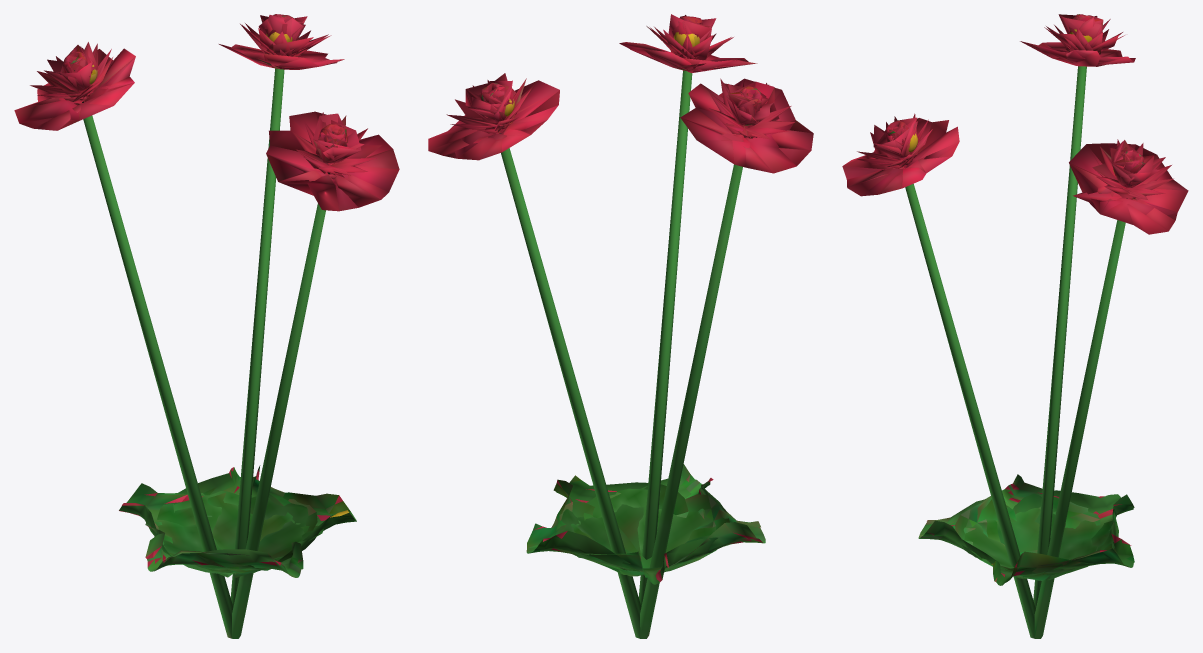
The model's file is crop_dahlia.glb.
The picture shows the model from 3 angles, left to right: view 1: azimuth 30°, elevation 25°; view 2: azimuth 150°, elevation 25°; view 3: azimuth 270°, elevation 25°; orthographic projection. The views are drawn at different scales.
Parts seen in each view (by area): view 1: crop_dahlia, fruit; view 2: crop_dahlia, fruit; view 3: crop_dahlia, fruit.
Boxes of the visible parts, bbox=[...] form: crop_dahlia: bbox=[83, 32, 356, 638]; fruit: bbox=[14, 14, 399, 211]; crop_dahlia: bbox=[501, 32, 765, 638]; fruit: bbox=[428, 14, 813, 173]; crop_dahlia: bbox=[905, 29, 1134, 638]; fruit: bbox=[842, 14, 1188, 234].
Bounding box in the file's own units: 0.2259 × 0.3837 × 0.2125.
1 material, 1 textured.
